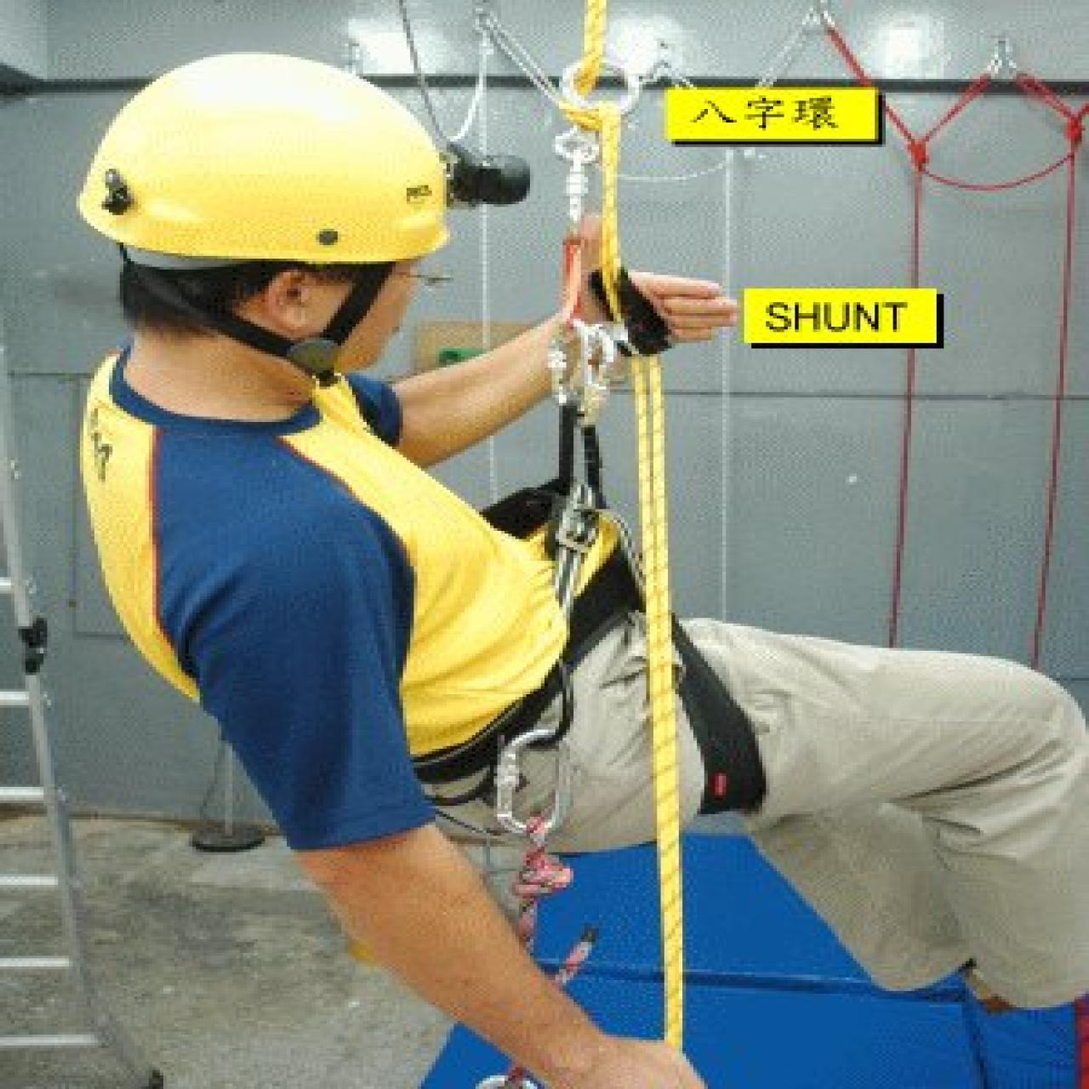NO_Safety_Vest: (65, 345, 592, 887)
Person: (47, 44, 1089, 1086)
